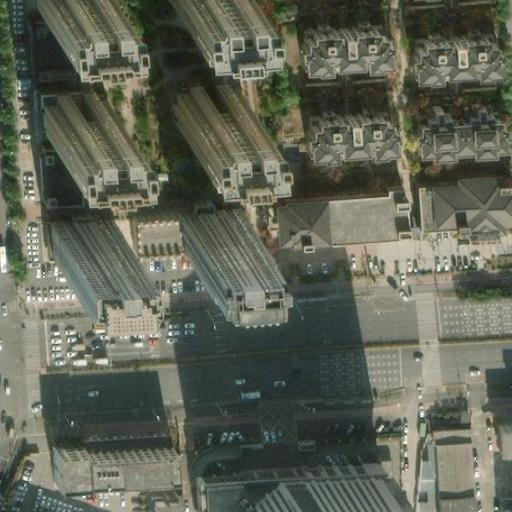building: (193, 453, 380, 512), (271, 193, 404, 245), (232, 475, 383, 512), (413, 177, 512, 228), (45, 438, 165, 478), (295, 102, 389, 150), (287, 13, 381, 60), (399, 29, 493, 69), (407, 102, 501, 141), (169, 211, 239, 253), (169, 82, 237, 124), (39, 222, 109, 261), (34, 89, 100, 128), (436, 425, 475, 486), (107, 217, 171, 252), (450, 486, 487, 512), (484, 409, 512, 437), (146, 492, 170, 512)
